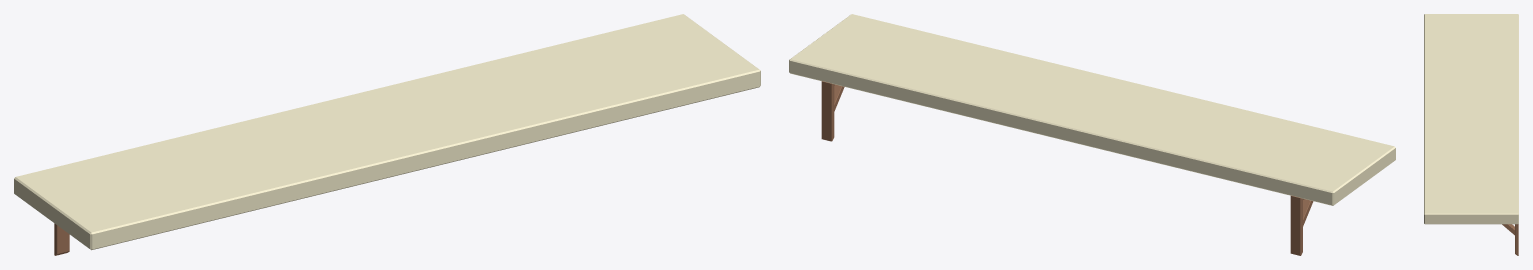
File: WallShelf.glb
3 views of the same model, side by side, from view 1: azimuth 30°, elevation 25°; view 2: azimuth 150°, elevation 25°; view 3: azimuth 270°, elevation 25° (orthographic). The views are drawn at different scales.
Visible parts, largest first — view 1: Wall Shelf; view 2: Wall Shelf; view 3: Wall Shelf.
Part boxes in pixels (x1,y1,x2,y2): Wall Shelf: (14, 14, 760, 255); Wall Shelf: (789, 14, 1395, 255); Wall Shelf: (1424, 14, 1518, 255).
Bounding box in the file's own units: 1.2 × 0.1514 × 0.24.
Materials: 1 (1 with a texture image).
